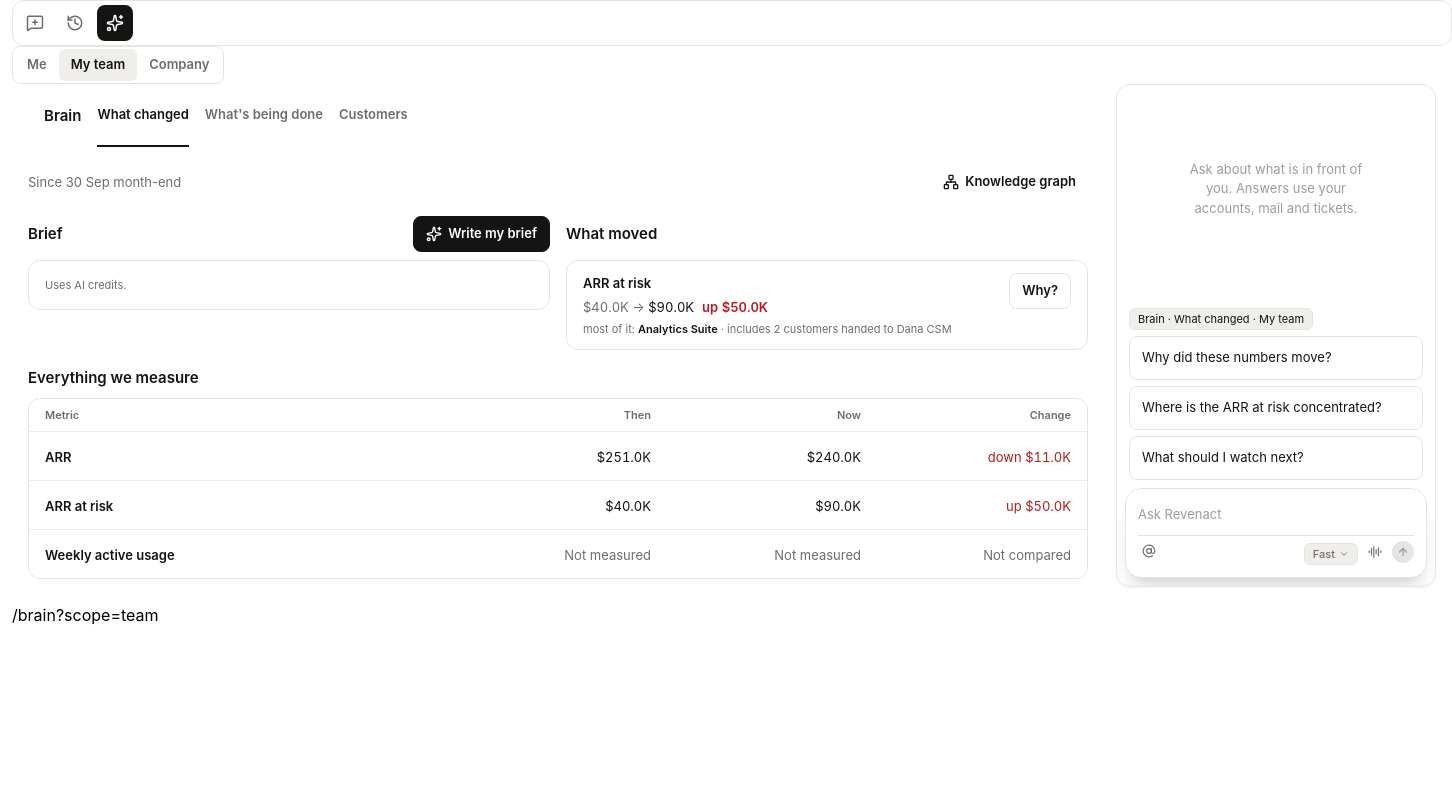
Test: Ask on the Brain: the chip and the states › says the view changed on a scope refusal, keeps the question, and offers no retry
The width and height of the screenshot is (1452, 810).
Expected: the text "Brain · What changed · My team" is shown, [1129,308,1313,330]
In the field with placeholder "Ask Revenact": (1276, 515) [1138,503,1414,526], type "Why?"
Then press Enter
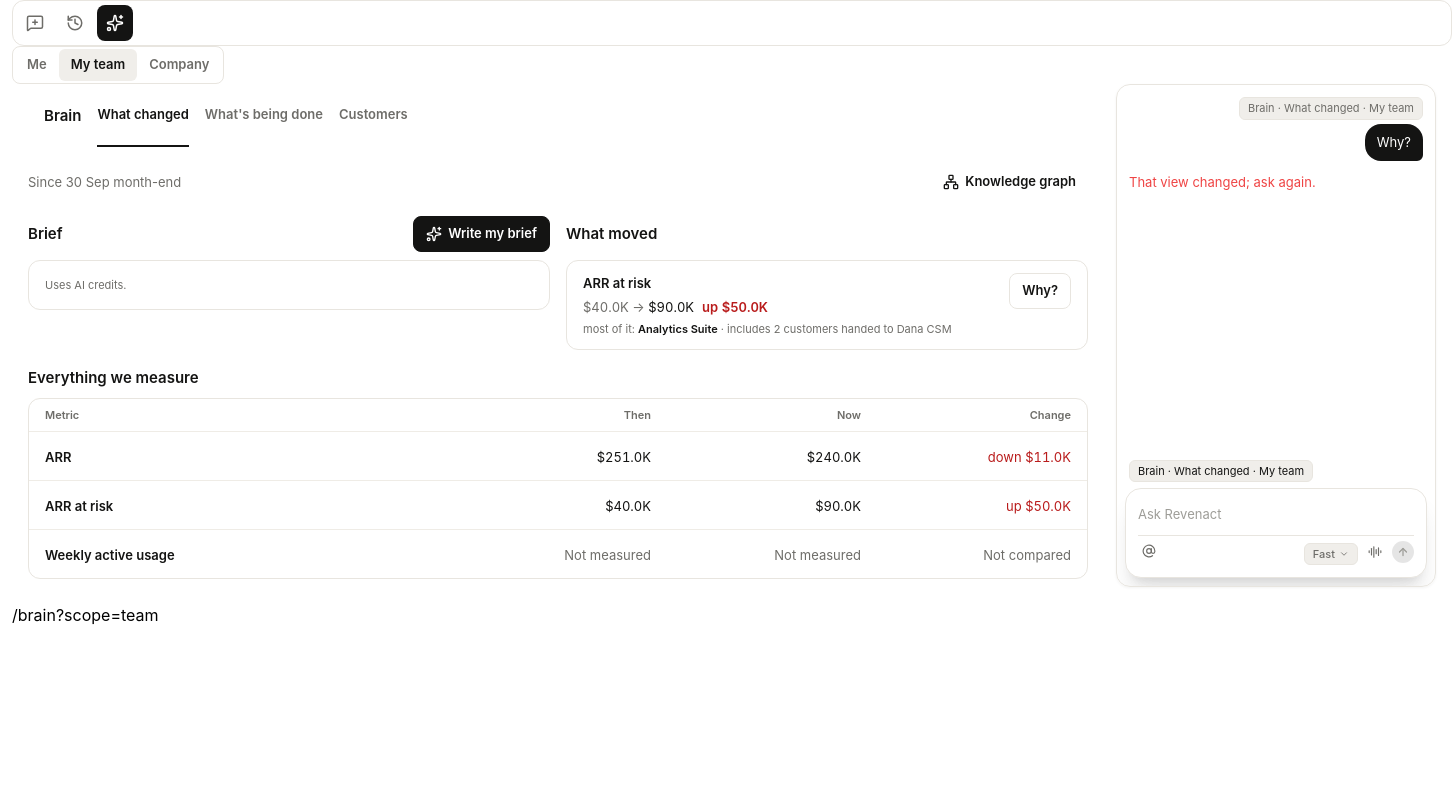
Result: the text "That view changed; ask again." is shown at [1129,173,1316,192]
Result: the text "Why?" is shown at [1365,124,1423,161]
